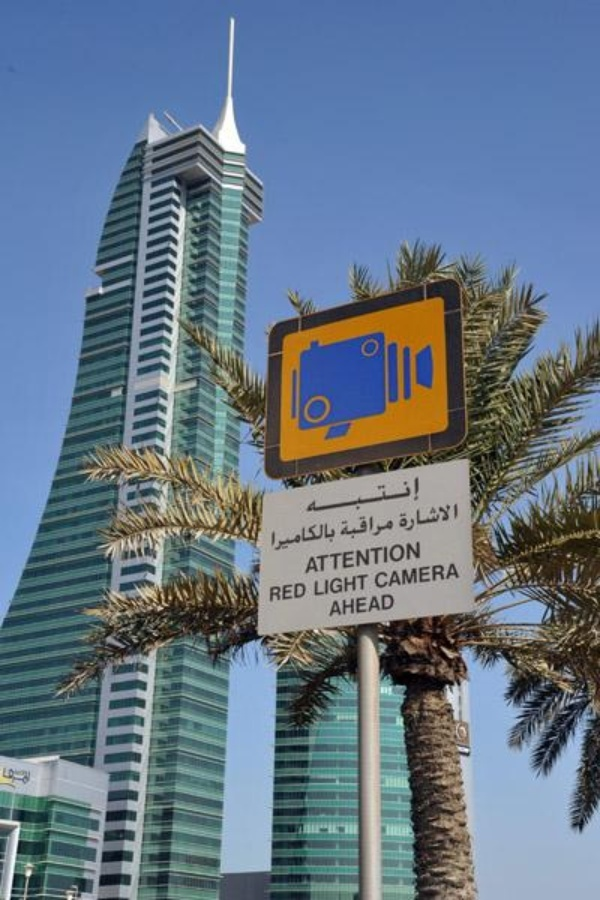text: (321, 476, 336, 517), (337, 476, 352, 517), (353, 476, 368, 517), (369, 476, 384, 517), (385, 476, 400, 517), (401, 476, 416, 517), (305, 538, 320, 575), (321, 538, 336, 575), (337, 538, 352, 575), (353, 538, 368, 575), (369, 538, 384, 575), (385, 538, 400, 575), (401, 538, 416, 575), (321, 520, 337, 554), (307, 476, 320, 517), (273, 520, 288, 554), (289, 520, 304, 554), (305, 520, 320, 554), (401, 503, 416, 535), (417, 503, 432, 535), (433, 503, 448, 535), (337, 590, 352, 619), (353, 590, 368, 619), (369, 590, 384, 619), (385, 590, 400, 619), (385, 562, 400, 590), (401, 562, 416, 590), (417, 562, 432, 590), (433, 562, 448, 590), (353, 515, 368, 541), (369, 515, 384, 541), (273, 580, 288, 605), (289, 580, 304, 605), (417, 538, 427, 575), (449, 503, 460, 535), (339, 515, 352, 541), (385, 515, 398, 541), (449, 562, 461, 590), (321, 574, 336, 596), (337, 574, 352, 596), (353, 574, 368, 596), (374, 562, 384, 590), (417, 476, 422, 517), (329, 590, 336, 619), (313, 574, 320, 596), (268, 580, 272, 605), (397, 503, 400, 535), (305, 580, 308, 605), (271, 520, 272, 554), (369, 574, 370, 596)
